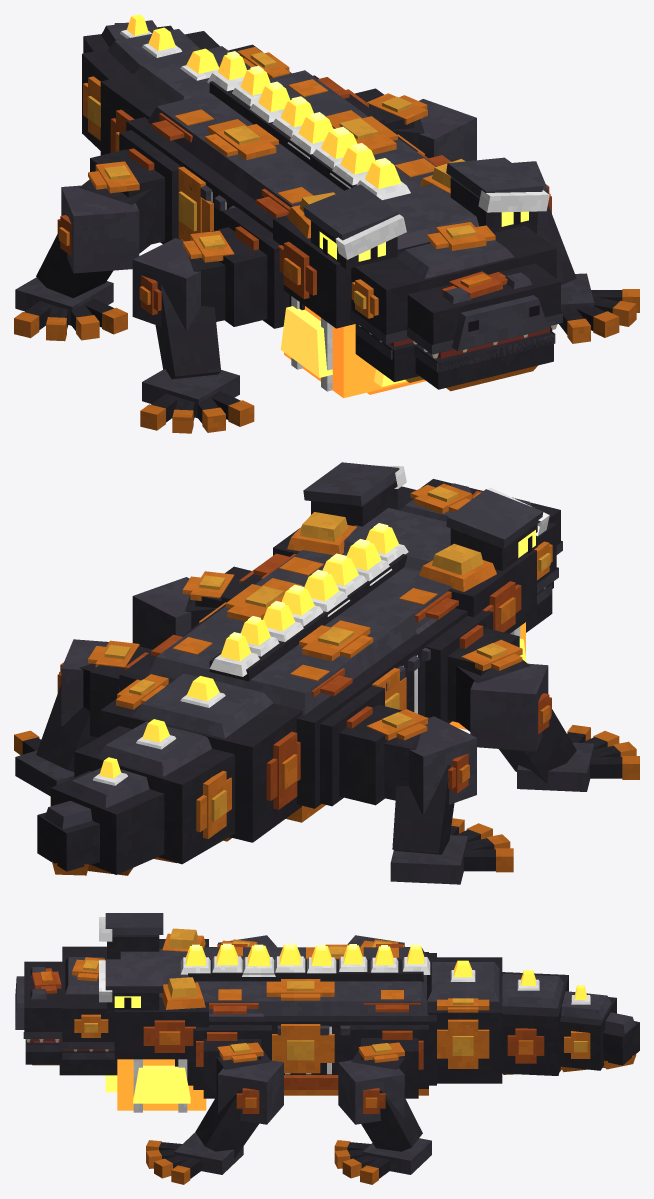
The model's file is fmob_newt.glb.
The picture shows the model from 3 angles, top to bottom: view 1: azimuth 30°, elevation 25°; view 2: azimuth 150°, elevation 25°; view 3: azimuth 270°, elevation 25°; orthographic projection. The views are drawn at different scales.
Parts seen in each view (by area): view 1: head, fmob_newt, leg_fr, leg_br, sway_tail, jaw, glow_spine, leg_fl, weak_throat, leg_bl, glow_tailspine, glow_eyes; view 2: fmob_newt, sway_tail, head, leg_br, leg_fr, leg_bl, glow_spine, leg_fl, glow_tailspine, jaw; view 3: fmob_newt, head, sway_tail, leg_fl, leg_bl, weak_throat, glow_spine, jaw, glow_tailspine, leg_fr.
Part boxes in pixels (box(x1,y1,x2,y2)): head: box(273, 157, 562, 391); fmob_newt: box(119, 70, 451, 328); leg_fr: box(132, 227, 267, 433); leg_br: box(14, 149, 164, 341); sway_tail: box(82, 20, 291, 155); jaw: box(355, 323, 555, 391); glow_spine: box(218, 51, 401, 188); leg_fl: box(512, 161, 639, 343); weak_throat: box(280, 306, 425, 398); leg_bl: box(355, 88, 476, 161); glow_tailspine: box(127, 14, 219, 73); glow_eyes: box(319, 211, 528, 261); fmob_newt: box(119, 544, 493, 822); sway_tail: box(37, 673, 302, 875); head: box(273, 462, 562, 638); leg_br: box(339, 704, 513, 884); leg_fr: box(447, 628, 639, 791); leg_bl: box(14, 639, 152, 796); glow_spine: box(220, 523, 398, 661); leg_fl: box(132, 566, 251, 649); glow_tailspine: box(99, 676, 219, 778); jaw: box(526, 581, 553, 632); fmob_newt: box(175, 944, 436, 1095); head: box(15, 913, 208, 1112); sway_tail: box(427, 957, 639, 1083); leg_fl: box(146, 1039, 283, 1184); leg_bl: box(334, 1038, 431, 1184); weak_throat: box(105, 1059, 206, 1110); glow_spine: box(186, 943, 424, 966); jaw: box(25, 1039, 117, 1075); glow_tailspine: box(454, 960, 586, 999); leg_fr: box(209, 935, 276, 947).
Size of the model in its own units: 1.64 by 0.6351 by 2.39.
Materials: 15 (6 with a texture image).
